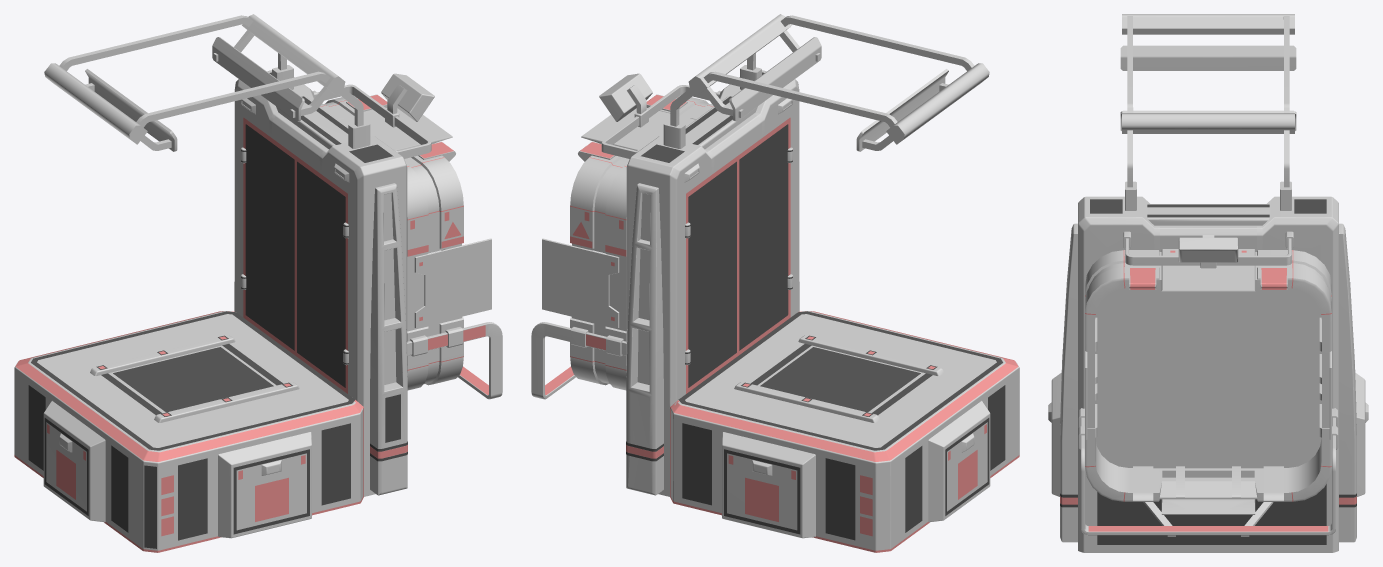
Rendered from Request-Station.fbx.
The picture shows the model from 3 angles, left to right: view 1: azimuth 30°, elevation 25°; view 2: azimuth 150°, elevation 25°; view 3: azimuth 270°, elevation 25°; orthographic projection.
Visible parts, largest first — view 1: RequestStation; view 2: RequestStation; view 3: RequestStation.
Part boxes in pixels (x1,y1,x2,y2): RequestStation: (14,14,502,552); RequestStation: (531,14,1019,552); RequestStation: (1048,14,1368,552).
Size of what is drawn, in the model's own units: 373 by 388 by 270.
